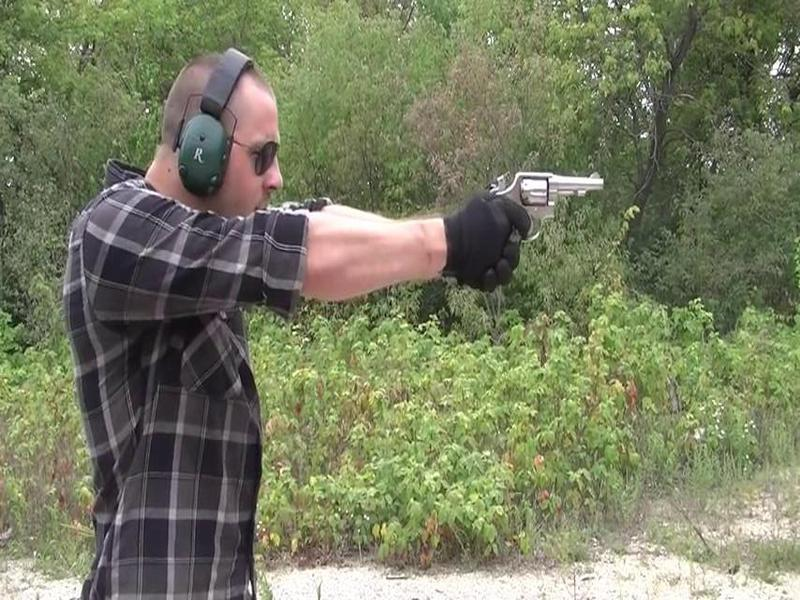Revolver: (487, 159, 610, 249)
